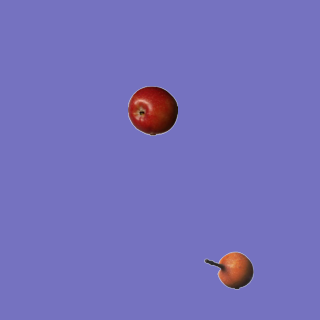Apple Braeburn: (127, 85, 177, 135)
Granadilla: (203, 245, 253, 295)
